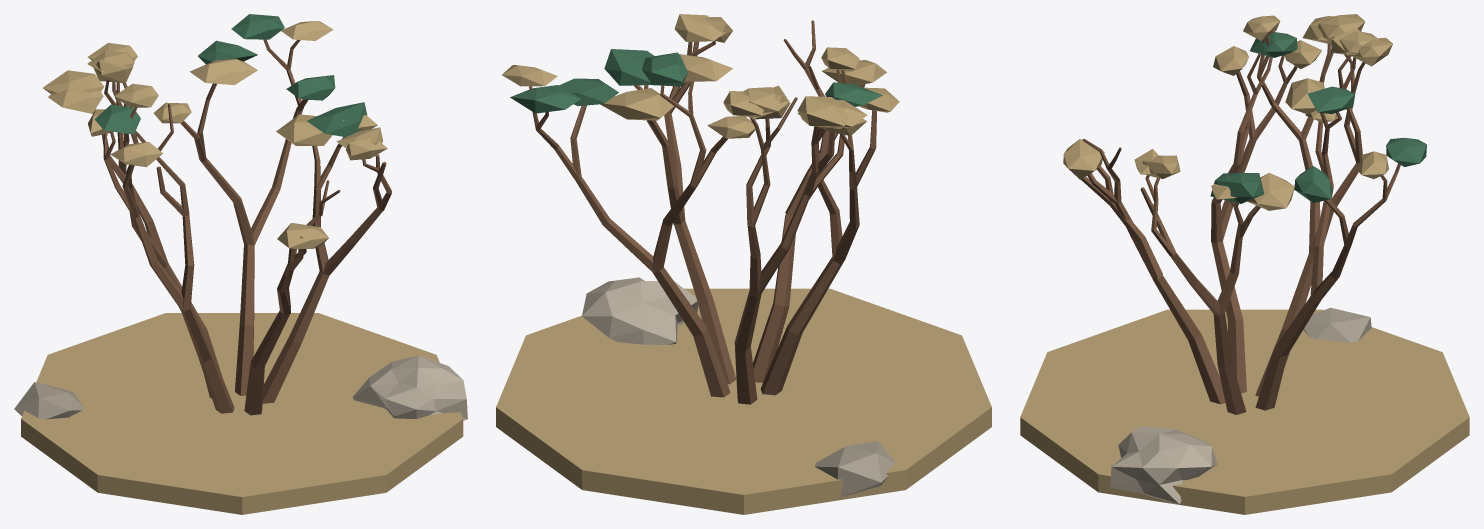
The model's file is PLANT_12.obj.
The picture shows the model from 3 angles, left to right: view 1: azimuth 30°, elevation 25°; view 2: azimuth 150°, elevation 25°; view 3: azimuth 270°, elevation 25°; orthographic projection. The views are drawn at different scales.
Parts seen in each view (by area): view 1: ground, branches, leaves, stones; view 2: ground, branches, leaves, stones; view 3: ground, branches, leaves, stones.
Part boxes in pixels (x1,y1,x2,y2): ground: (21,313,463,514); branches: (93,39,391,415); leaves: (43,14,387,248); stones: (14,355,467,420); ground: (496,288,991,514); branches: (529,20,876,404); leaves: (502,14,899,138); stones: (582,277,894,497); ground: (1020,309,1469,514); branches: (1069,36,1400,414); leaves: (1063,14,1426,210); stones: (1110,307,1371,504).
Size of the model in its own units: 1.55 by 1.42 by 1.58.
